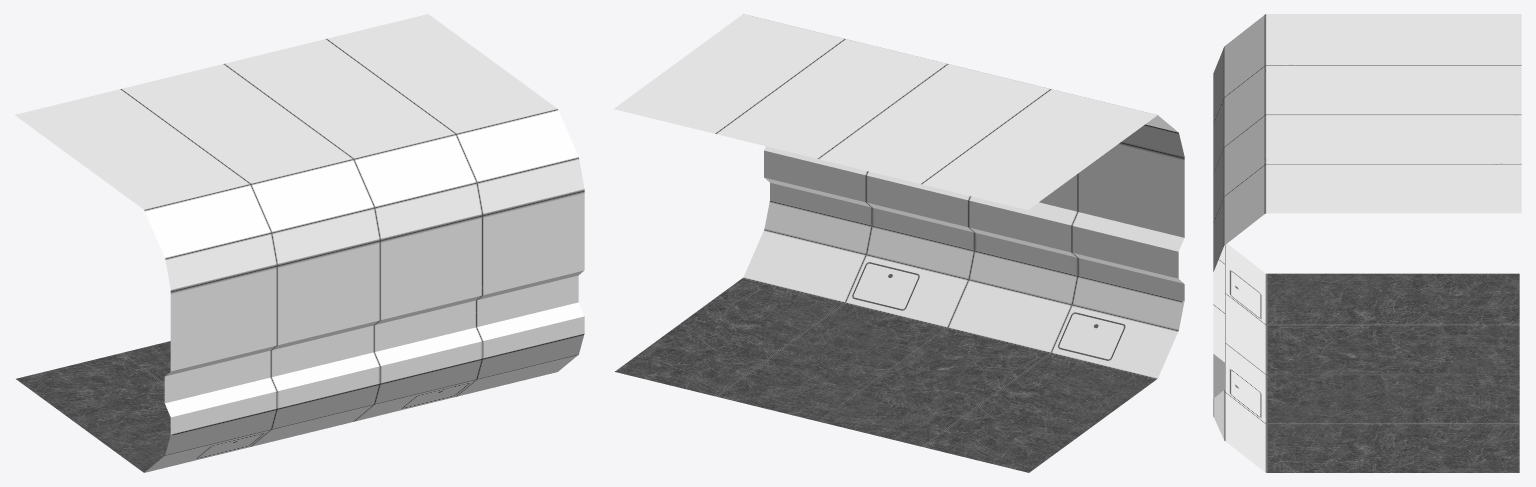
Rendered from Wall_2_Plain_2_Bottom_Panel.FBX.
3 renders of one model, left to right at view 1: azimuth 30°, elevation 25°; view 2: azimuth 150°, elevation 25°; view 3: azimuth 270°, elevation 25°, orthographic.
Visible parts, largest first — view 1: Plane072; view 2: Plane072; view 3: Plane072.
Part boxes in pixels (x1,y1,x2,y2): Plane072: [15, 14, 584, 472]; Plane072: [614, 14, 1184, 472]; Plane072: [1213, 14, 1521, 472].
Size of the model in its own units: 134 by 81.2 by 87.45.
